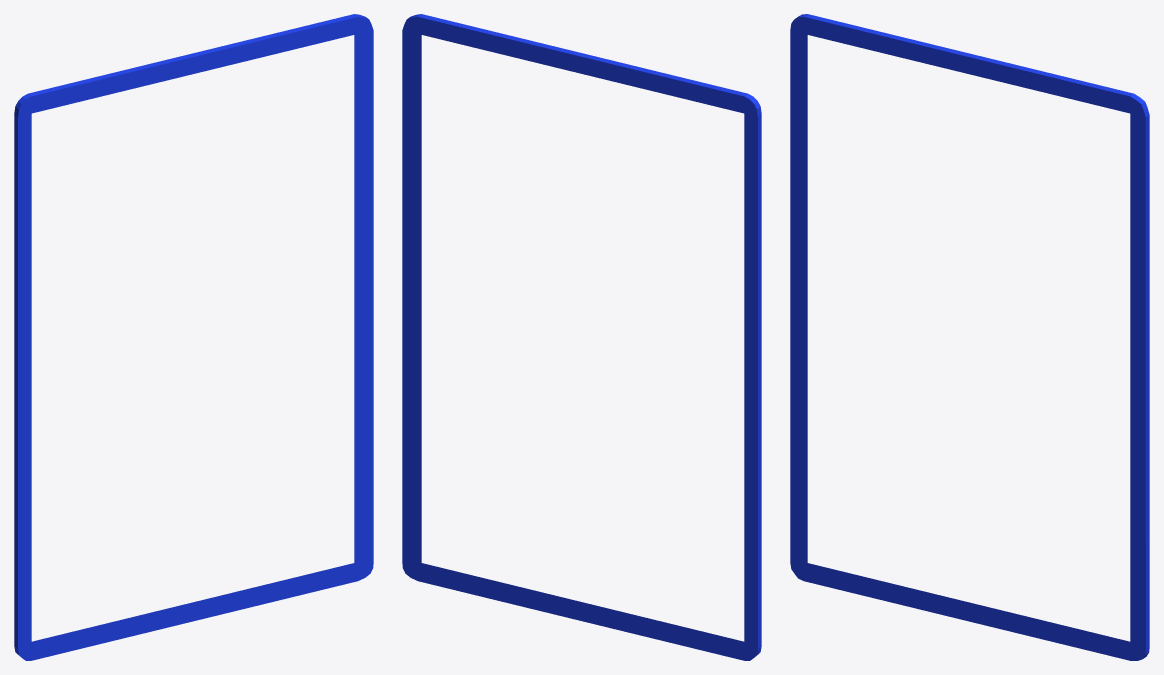
The model's file is placeholder.fbx.
3 views of the same model, side by side, from view 1: azimuth 30°, elevation 25°; view 2: azimuth 150°, elevation 25°; view 3: azimuth 330°, elevation 25° (orthographic).
Visible parts, largest first — view 1: Cube.001; view 2: Cube.001; view 3: Cube.001.
Part boxes in pixels (bbox=[...]): Cube.001: bbox=[14, 14, 373, 660]; Cube.001: bbox=[402, 14, 761, 660]; Cube.001: bbox=[790, 14, 1149, 660].
Bounding box in the file's own units: 4456 × 6759 × 83.94.
